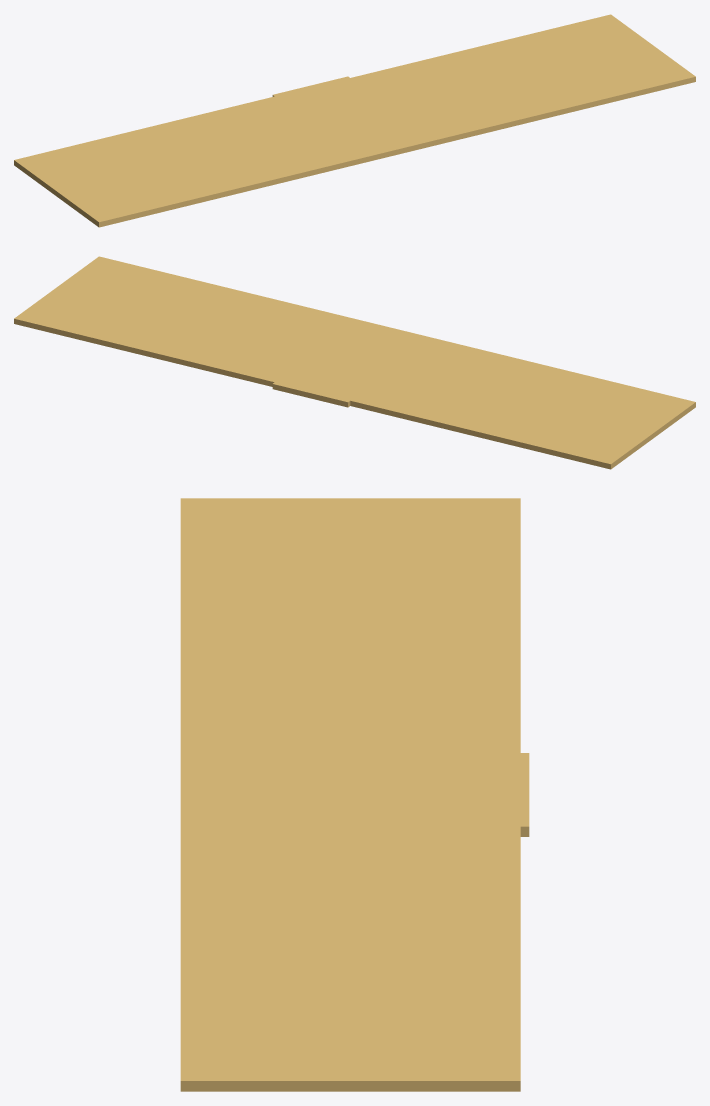
Rendered from Joglo_part_169.fbx.
The picture shows the model from 3 angles, top to bottom: view 1: azimuth 30°, elevation 25°; view 2: azimuth 150°, elevation 25°; view 3: azimuth 270°, elevation 25°; orthographic projection. The views are drawn at different scales.
Parts seen in each view (by area): view 1: Mesh24_Paint___Golden_Ochre_0.001; view 2: Mesh24_Paint___Golden_Ochre_0.001; view 3: Mesh24_Paint___Golden_Ochre_0.001.
Boxes of the visible parts, <box> form: Mesh24_Paint___Golden_Ochre_0.001: <box>14,14,695,227</box>; Mesh24_Paint___Golden_Ochre_0.001: <box>14,256,695,469</box>; Mesh24_Paint___Golden_Ochre_0.001: <box>180,498,529,1091</box>.
Size of the model in its own units: 467 by 3.94 by 118.
